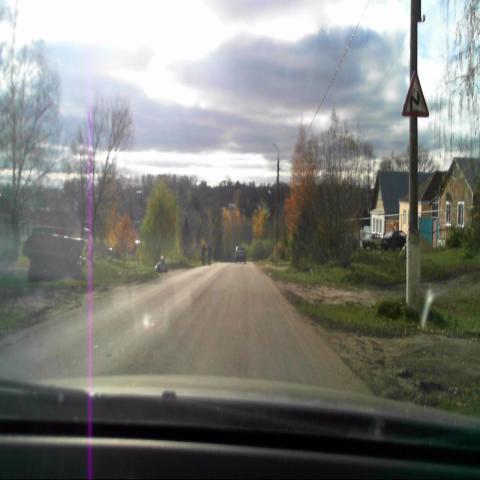1_12: (402, 69, 428, 117)
